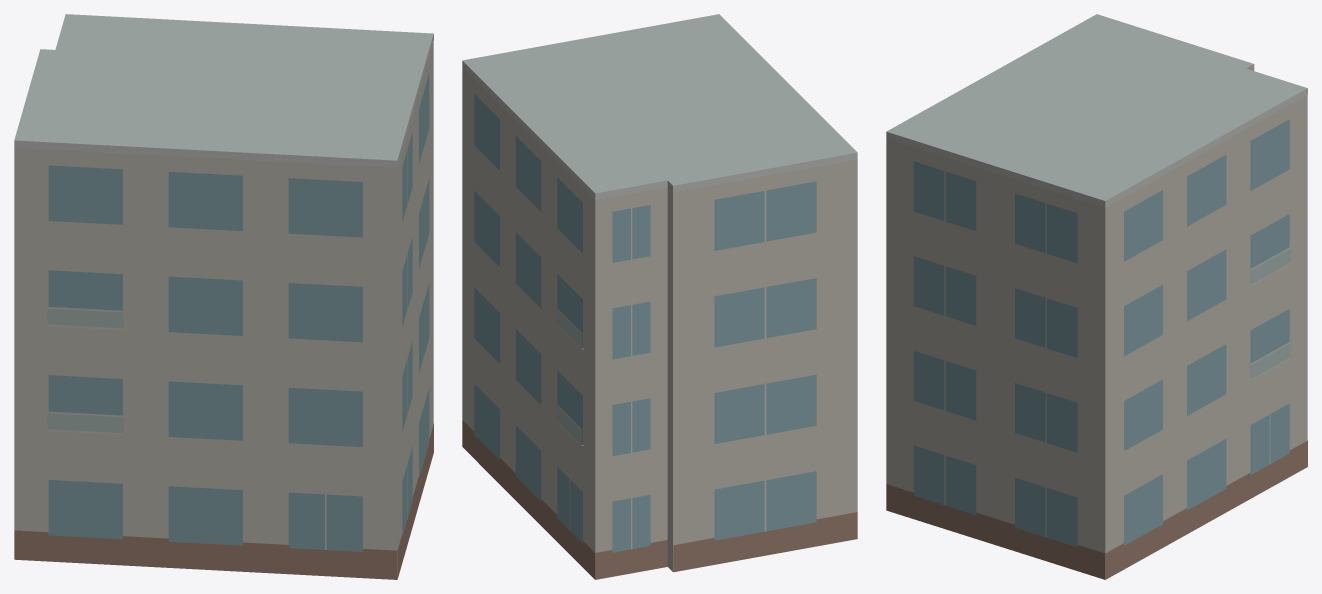
File: survey-upis-32960847.glb
3 renders of one model, left to right at view 1: azimuth 30°, elevation 25°; view 2: azimuth 150°, elevation 25°; view 3: azimuth 270°, elevation 25°, orthographic. The views are drawn at different scales.
Visible parts, largest first — view 1: survey-upis-32960847.tmp; view 2: survey-upis-32960847.tmp; view 3: survey-upis-32960847.tmp.
Part boxes in pixels (<box>): survey-upis-32960847.tmp: <box>14,14,433,579</box>; survey-upis-32960847.tmp: <box>462,14,857,579</box>; survey-upis-32960847.tmp: <box>886,14,1307,579</box>.
Size of the model in its own units: 14.78 by 13.95 by 14.07.
